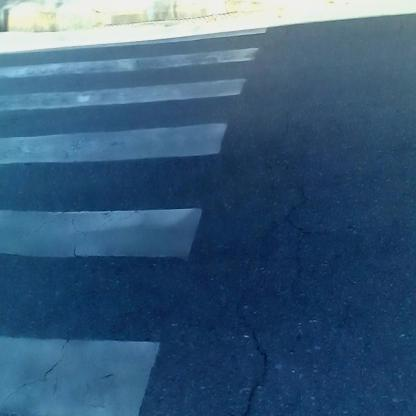crosswalk: (1, 19, 274, 416)
sidewalk: (3, 3, 321, 61)
